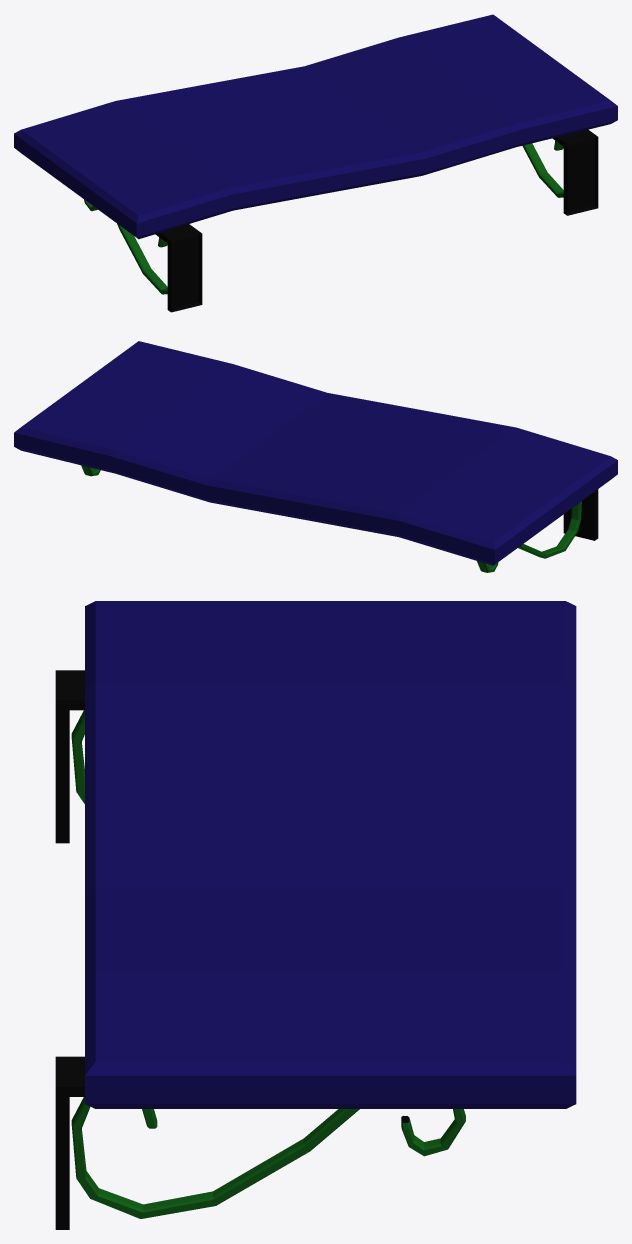
Rendered from MESH_WallShelf.fbx.
3 views of the same model, one above another, from view 1: azimuth 30°, elevation 25°; view 2: azimuth 150°, elevation 25°; view 3: azimuth 270°, elevation 25° (orthographic). The views are drawn at different scales.
Parts seen in each view (by area): view 1: MESH_WallShelf; view 2: MESH_WallShelf; view 3: MESH_WallShelf.
Boxes of the visible parts, x1=… form: MESH_WallShelf: x1=14, y1=14, x2=617, y2=312; MESH_WallShelf: x1=14, y1=341, x2=617, y2=572; MESH_WallShelf: x1=55, y1=601, x2=576, y2=1229.
Size of the model in its own units: 1 by 0.2013 by 0.4687.
